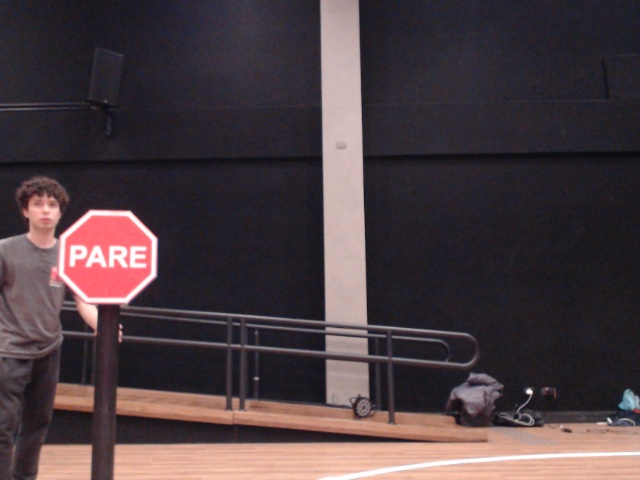SEMAFORO: (8, 178, 217, 370)
